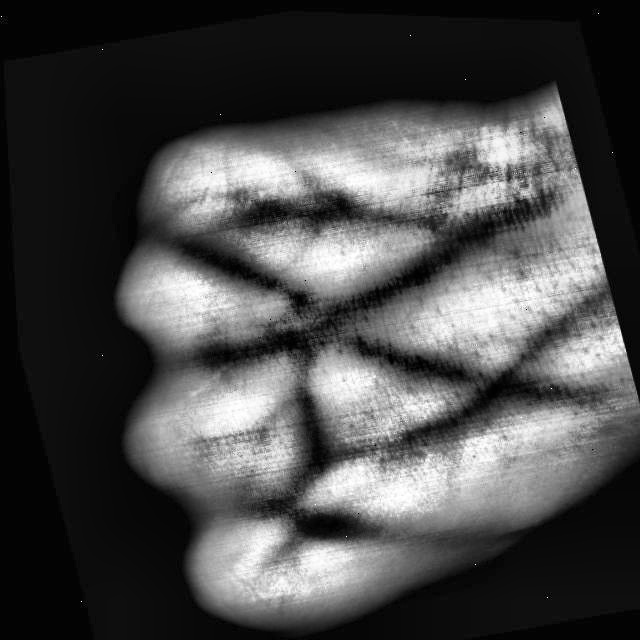Vein: (347, 177, 569, 318), (363, 337, 598, 415)
